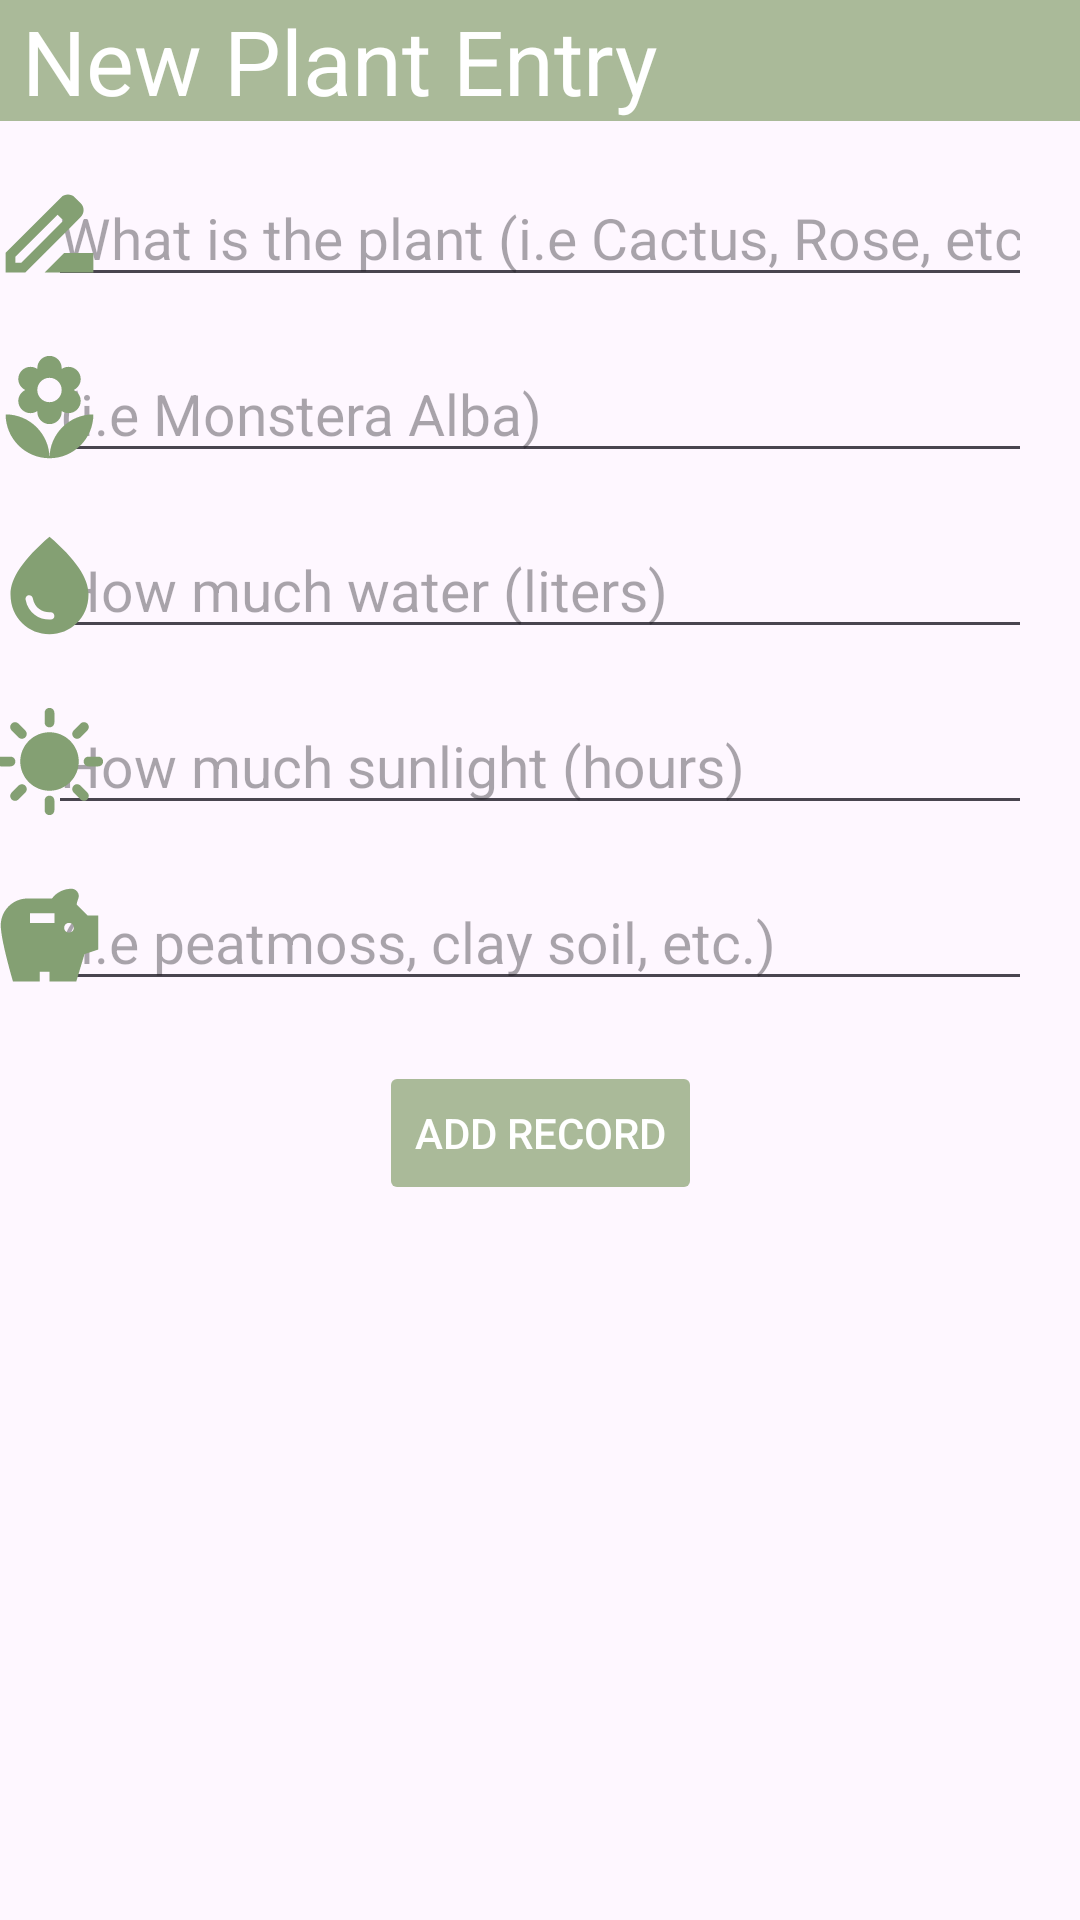

Icons on this 1080px x 1920px Android screen, each with the point to tap as (x=x, y=y):
plant name: (x=58, y=407)
sunny: (x=51, y=761)
water drop: (x=60, y=586)
